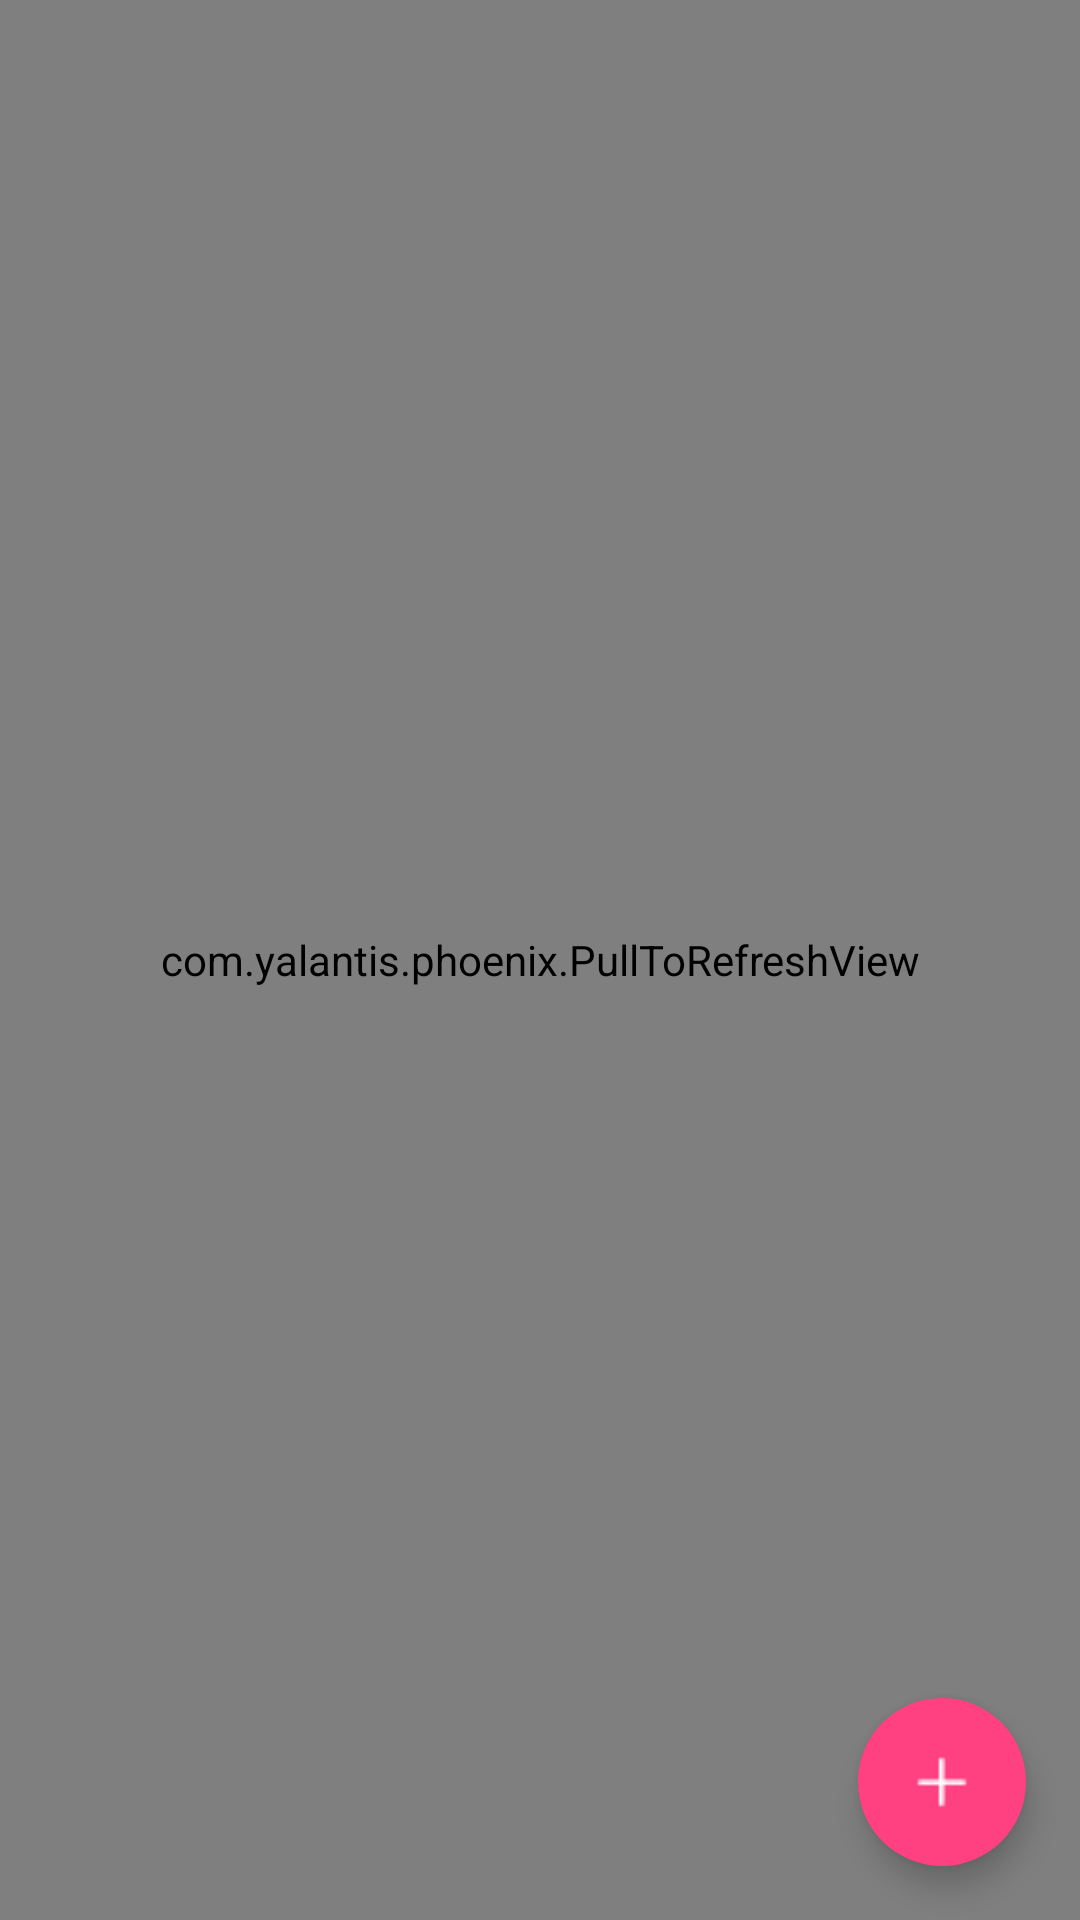

Icon bounding boxes for this 1080w x 1920h phone screenshot, format (x1, y1, x2, y2):
add: (858, 1698, 1026, 1866)
